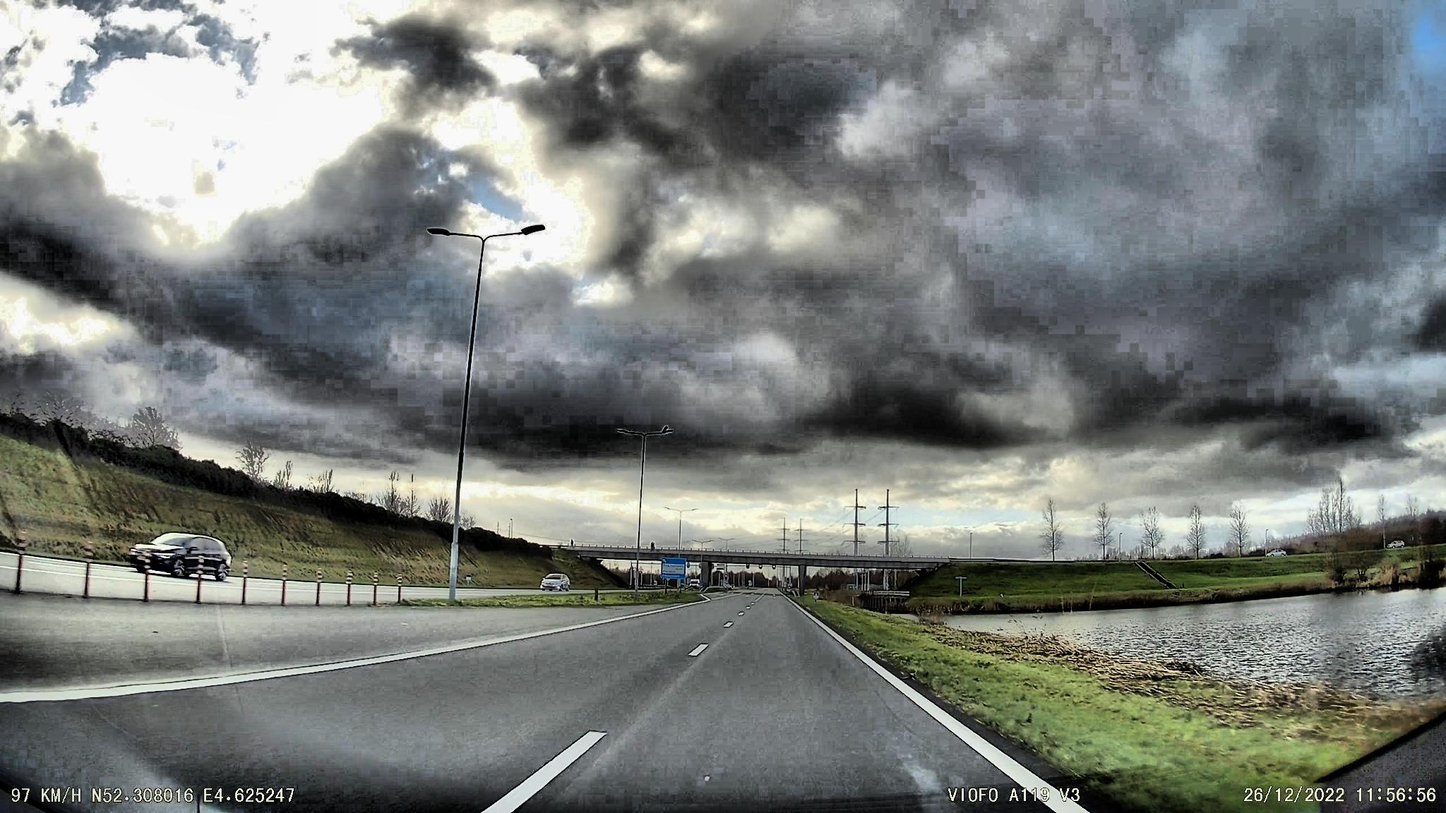Roads: (0, 593, 1121, 813)
